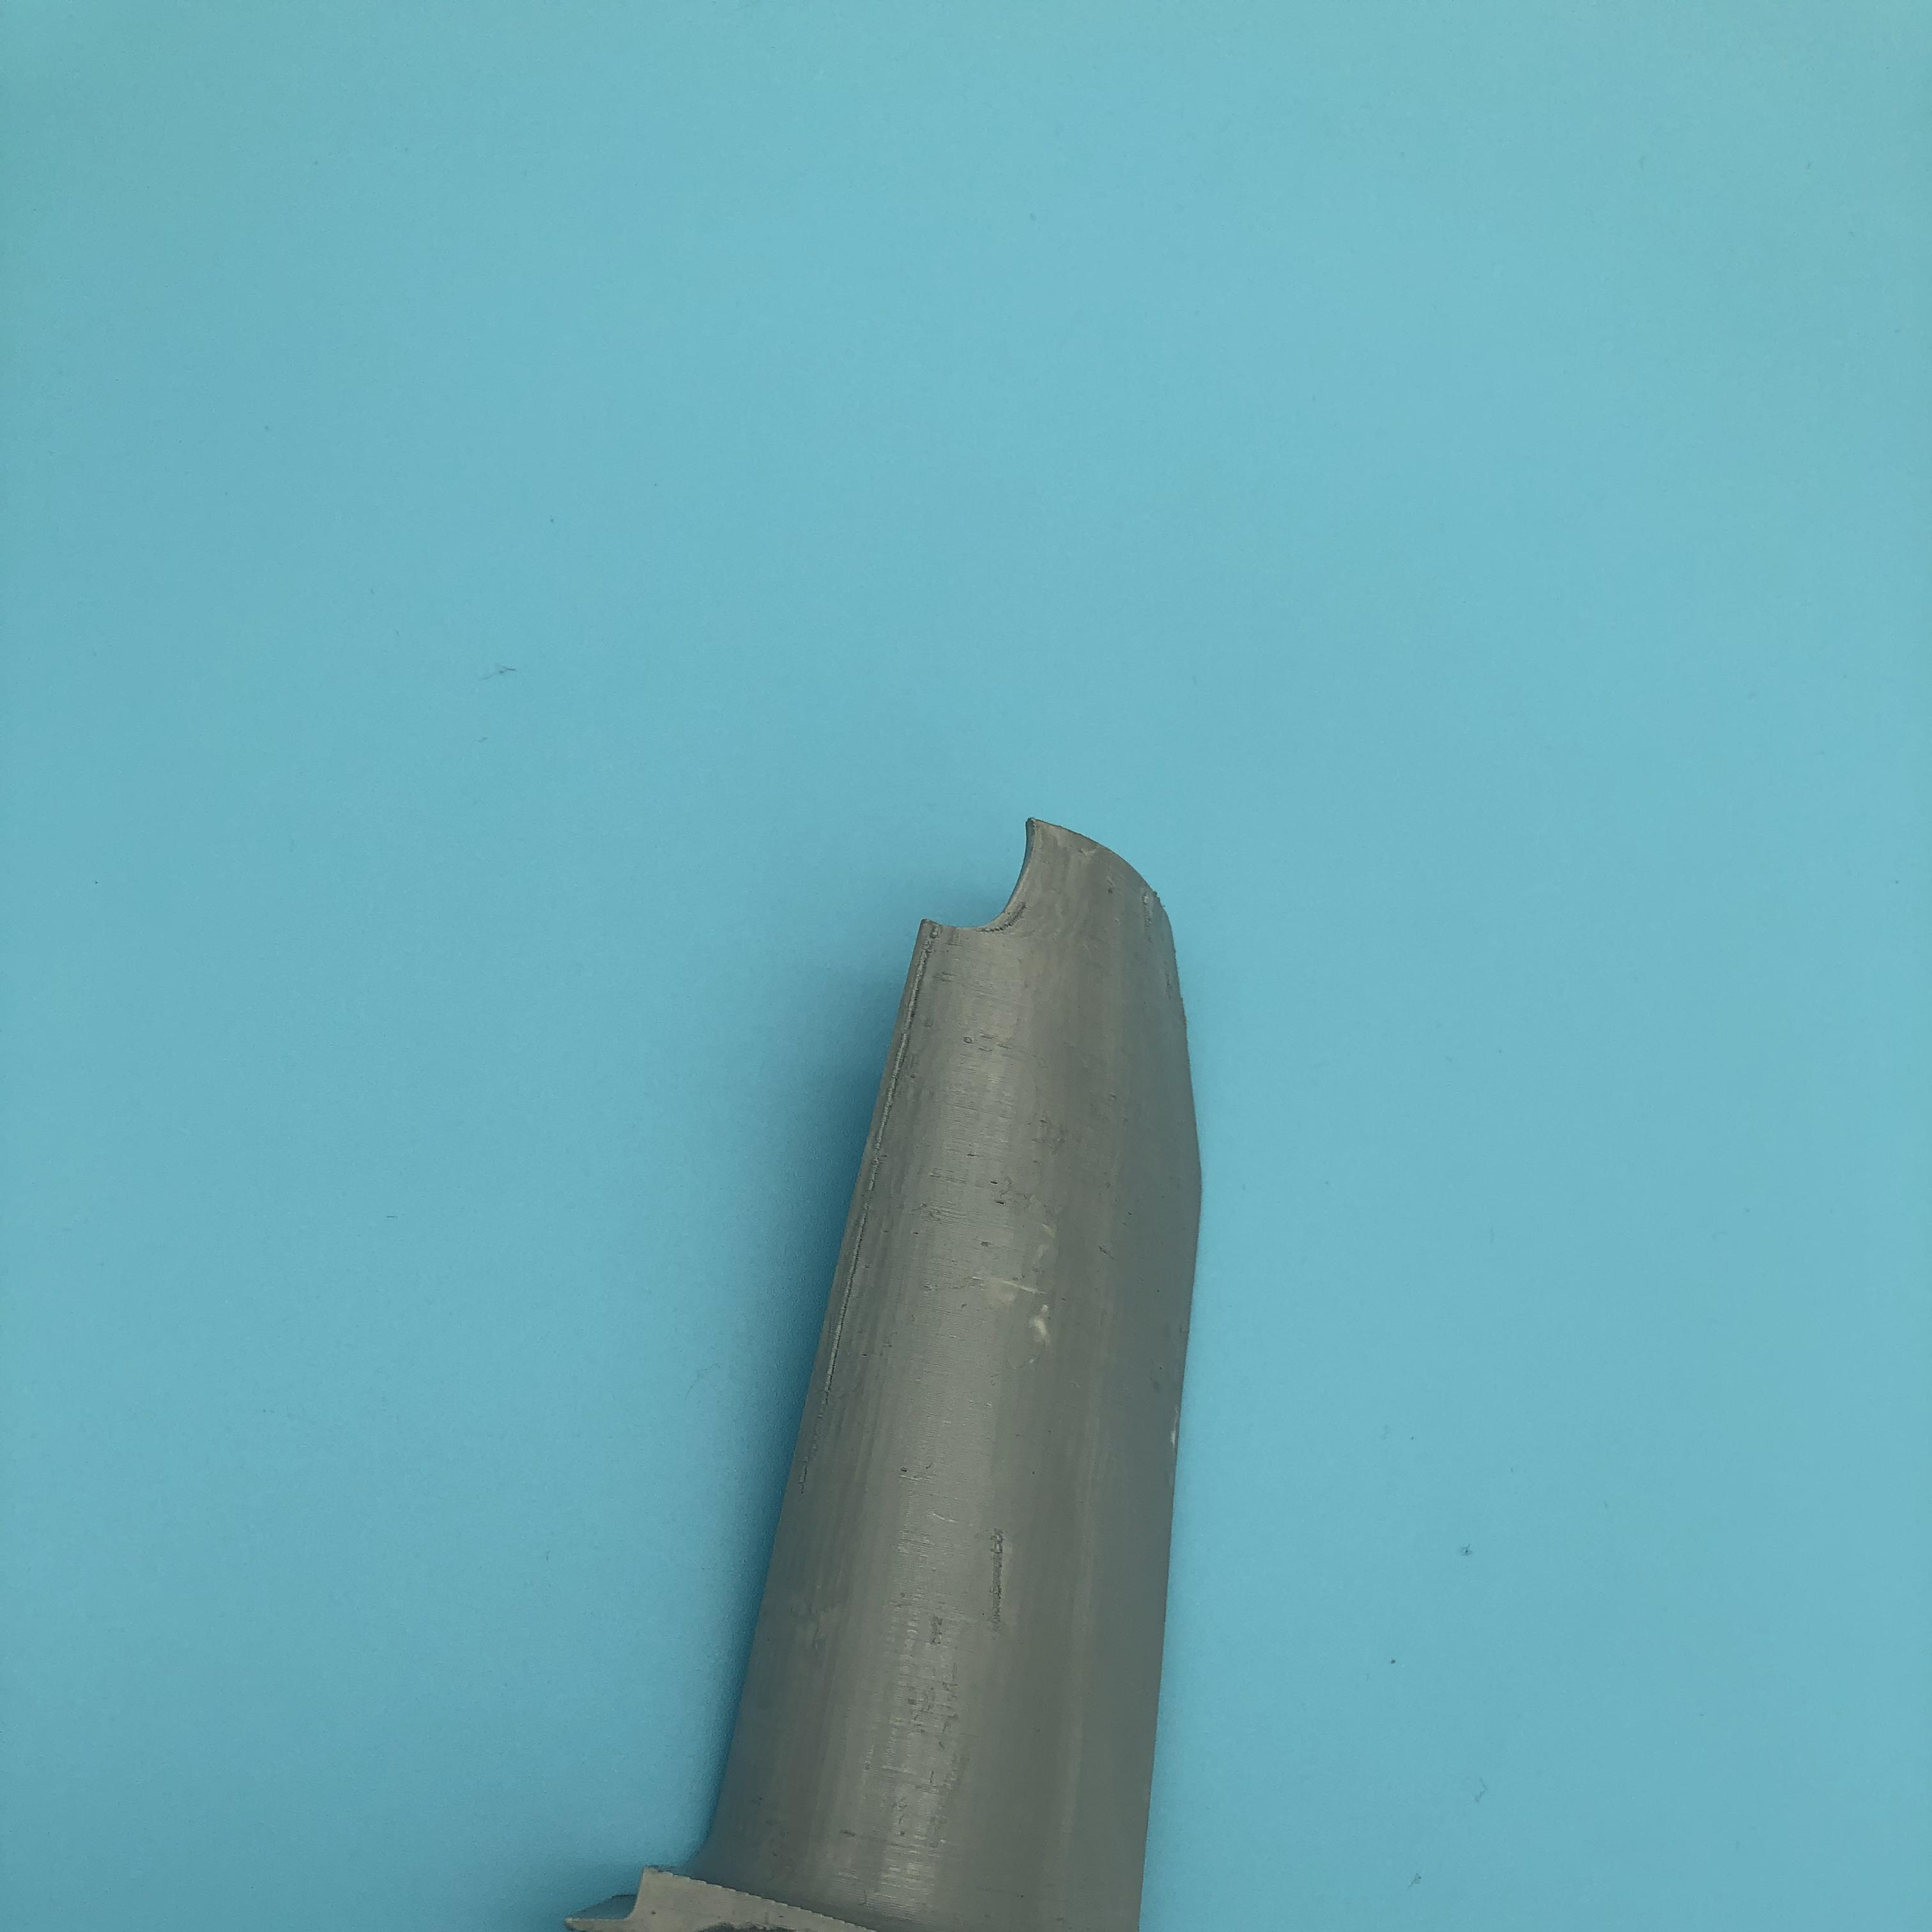fracture: (911, 784, 1054, 971)
